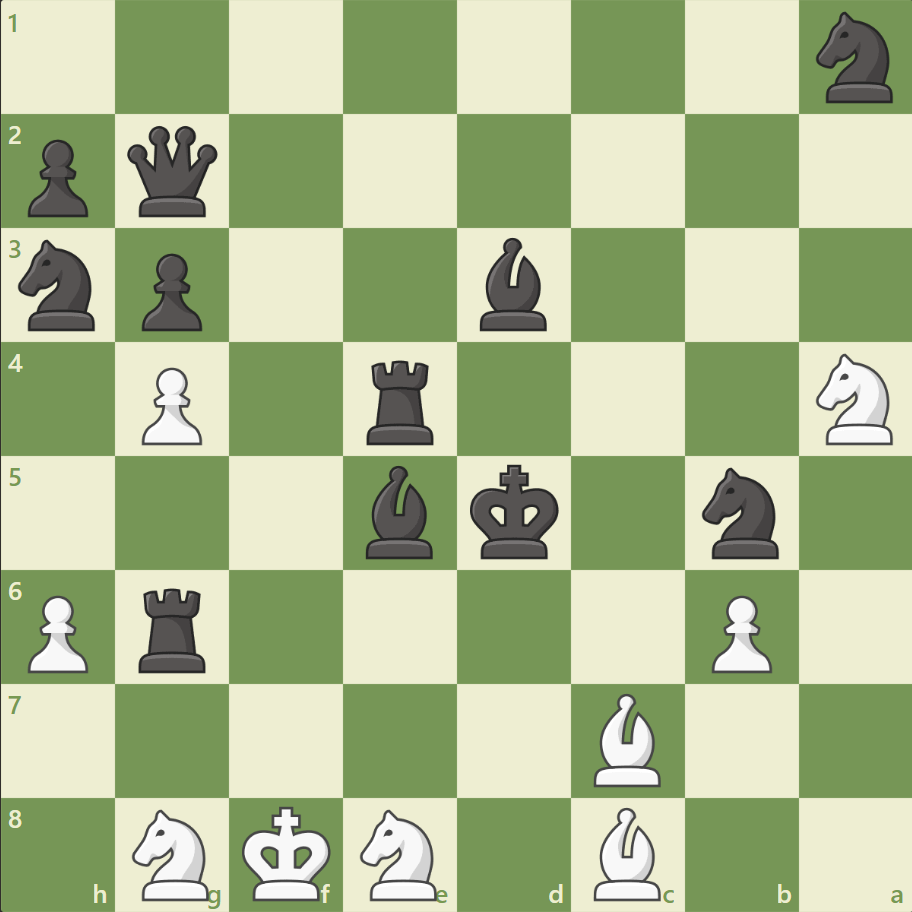B: (585, 801, 669, 904), (585, 687, 669, 790)
K: (238, 798, 338, 906)
N: (351, 802, 449, 904), (124, 802, 222, 904), (806, 348, 903, 450)
P: (701, 586, 776, 677), (20, 586, 95, 677), (133, 359, 208, 450)
b: (358, 460, 442, 563), (471, 233, 555, 336)
k: (465, 458, 565, 566)
n: (692, 461, 789, 564), (11, 234, 108, 337), (806, 7, 903, 110)
p: (133, 246, 208, 337), (20, 132, 95, 223)
q: (124, 122, 223, 222)
r: (133, 579, 215, 676), (360, 352, 442, 449)
